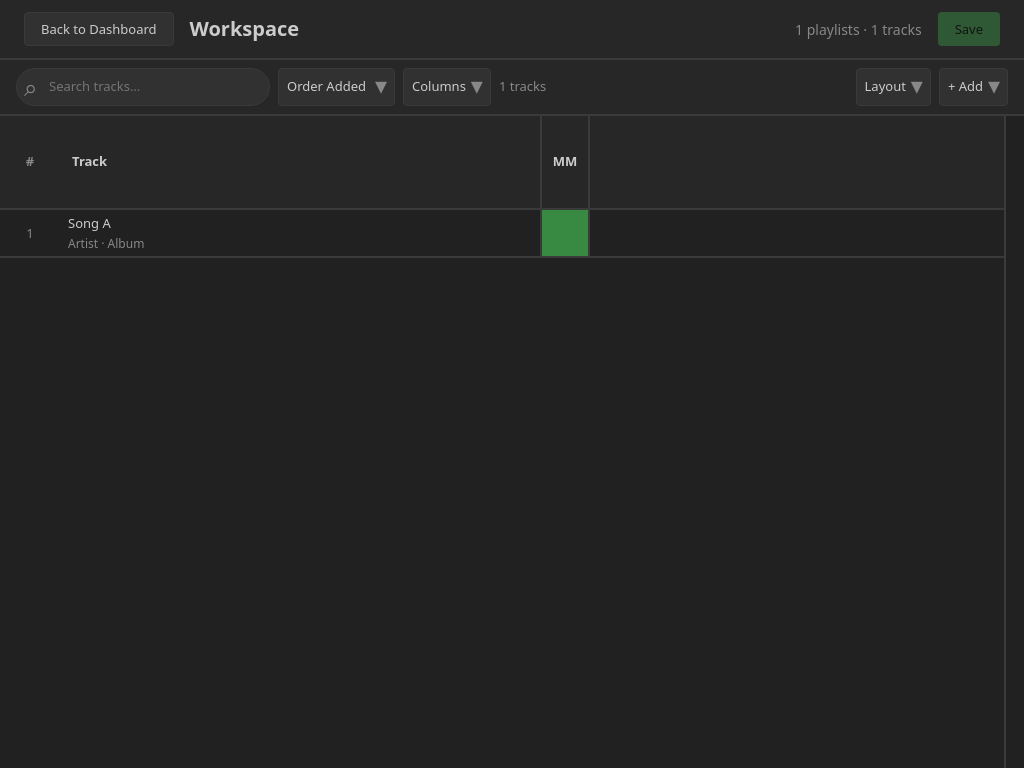
WorkspaceView › sort by this playlist › adds a named dynamic option and activates it
Right-click the element showing "MM" at (564, 162), box [540, 116, 588, 208]
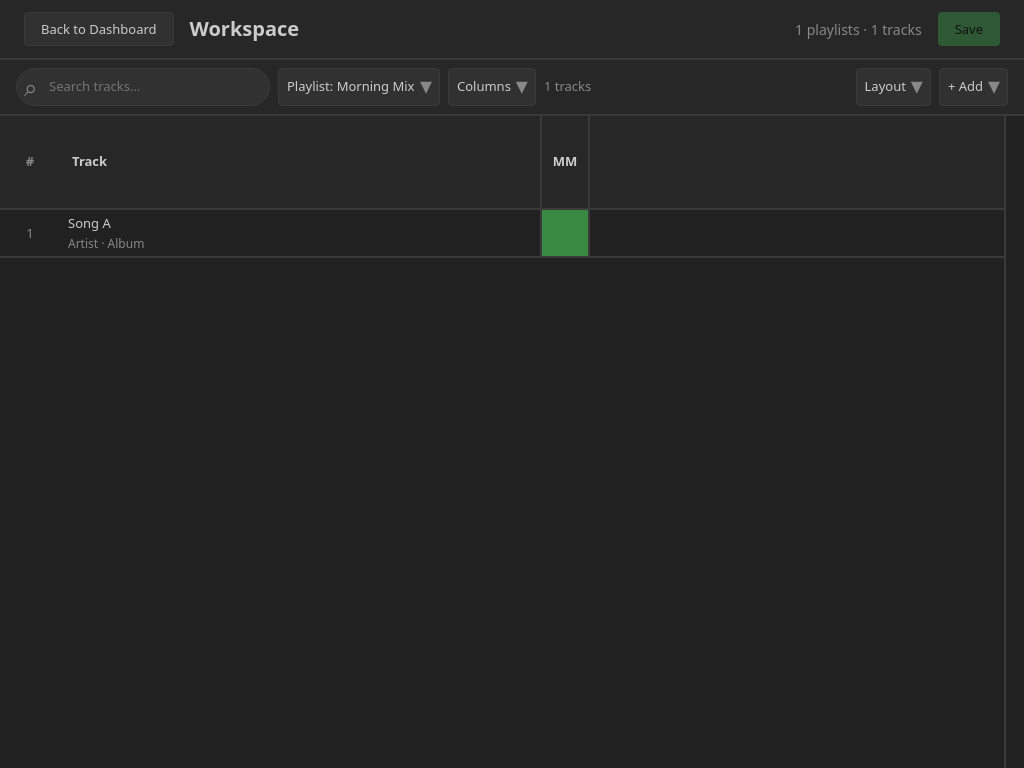
Now the dropdown with class "dropdown" shows "Playlist: Morning Mix", box [278, 68, 440, 106]
